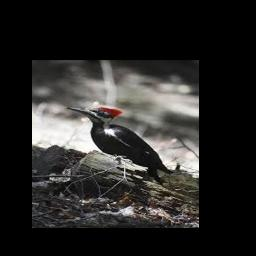Woodpecker: (67, 105, 173, 183)
